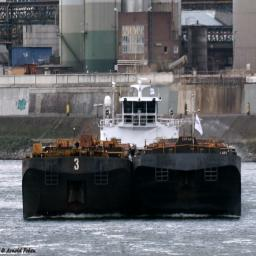tugboat: (94, 76, 186, 187)
